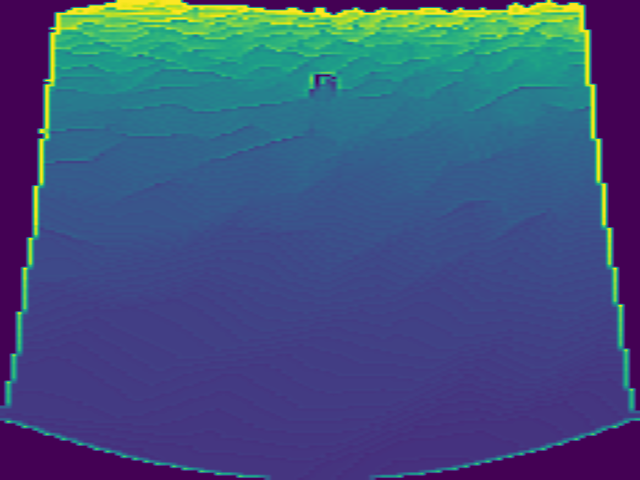car_0198: (309, 72, 338, 97)
